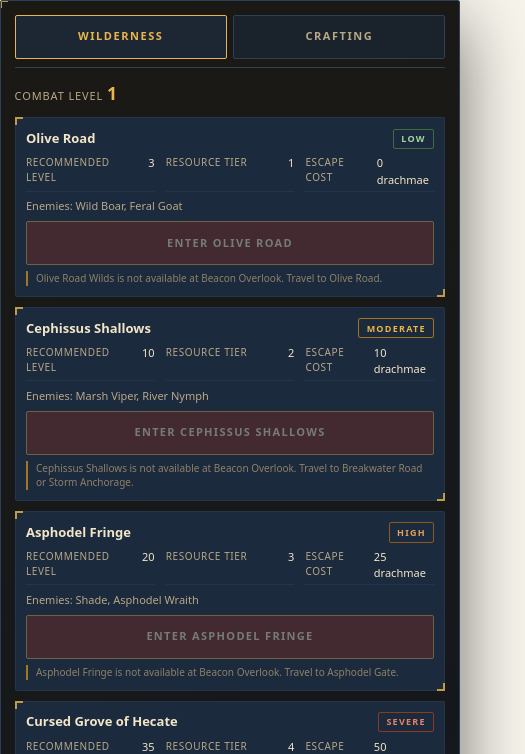
Scenario: RPGSystemsPanel — accessibility semantics › exposes a tab/tabpanel structure with correct aria-selected toggling
The image size is (525, 754).
What coordinates should you click on to do the following:
click the tab "Crafting"
I would click on:
 (339, 37)
Its box is [233,15,445,59].
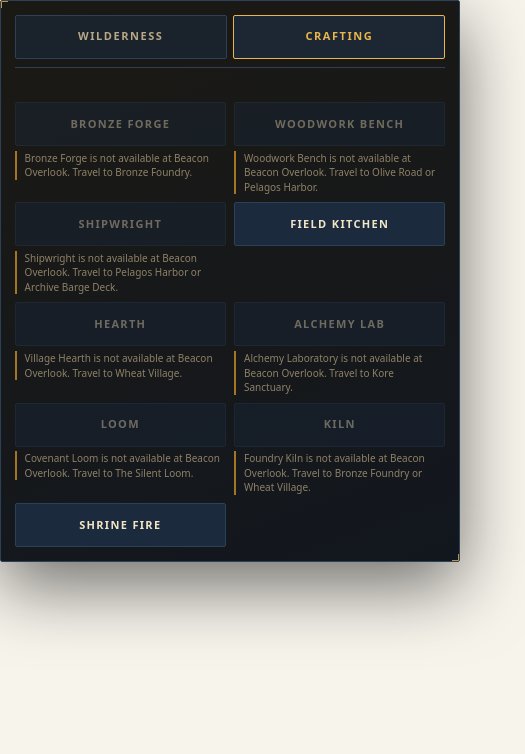
Result: the panel is shown at [15,80,445,547]
